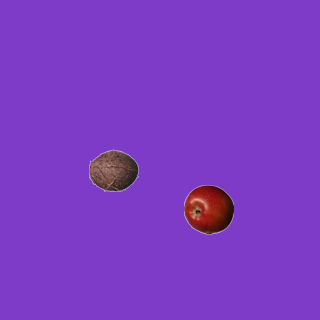Apple Braeburn: (183, 184, 233, 234)
Cocos: (88, 145, 138, 195)
